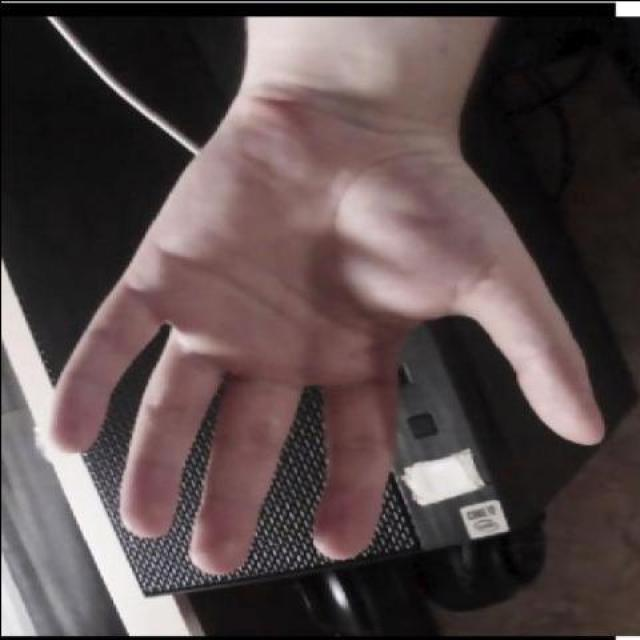Open Hand: (37, 98, 607, 575)
